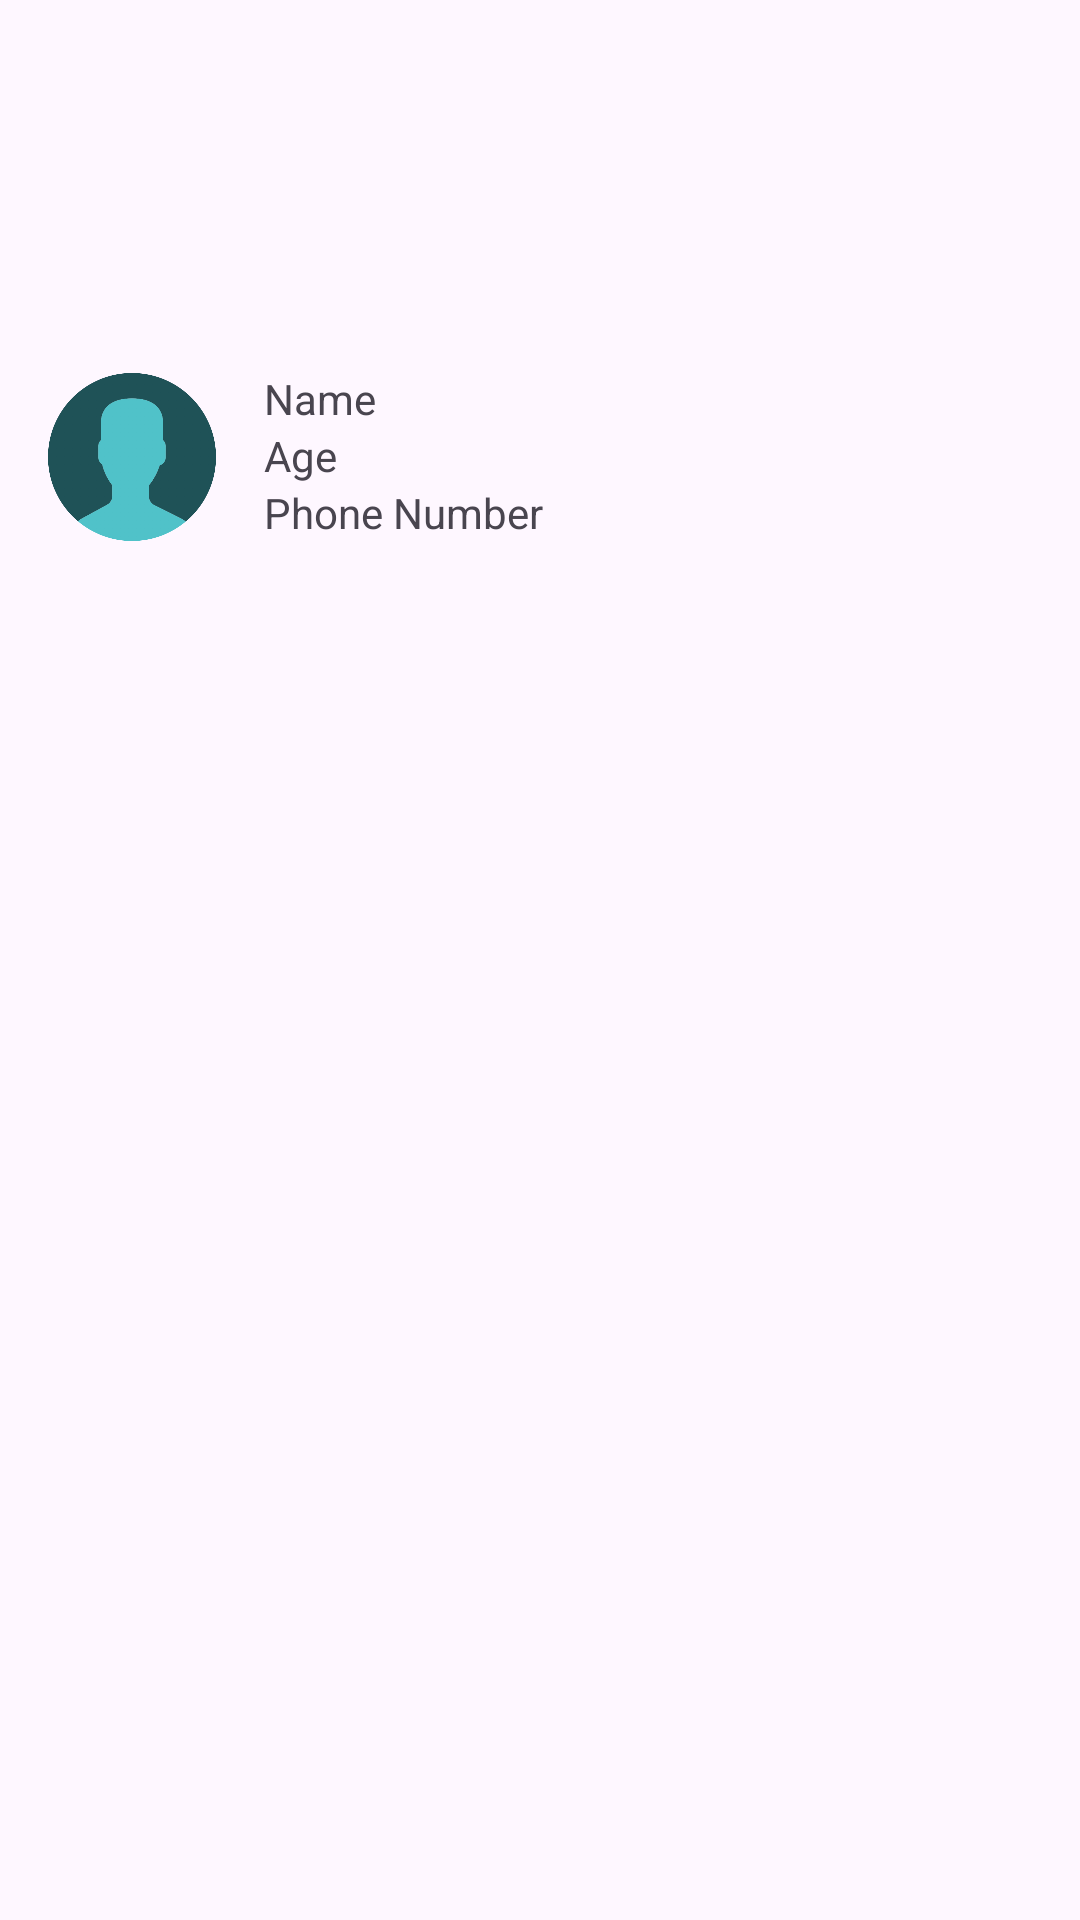

Screen size 1080px x 1920px. Icon name, then its center in pixels as (x,y):
male: (132,457)
